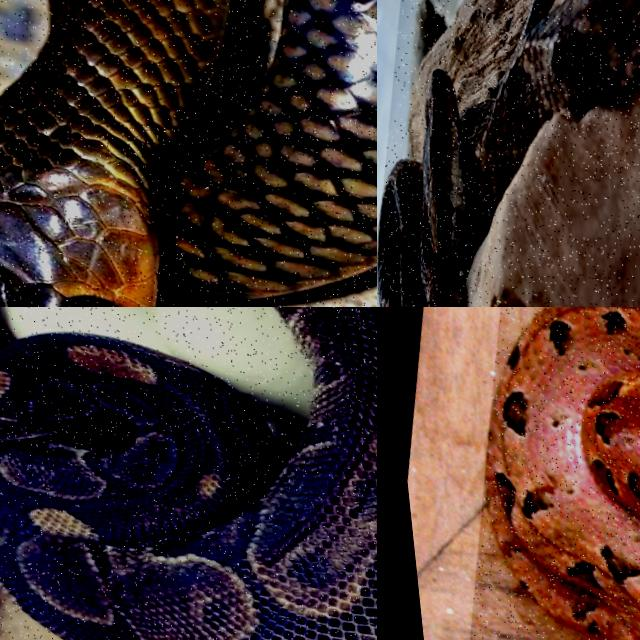Calloselasma rhodostoma: (377, 0, 639, 306), (486, 307, 639, 639)
Naja kaouthia: (0, 0, 376, 306)
Python bivittatus: (0, 307, 376, 639)
